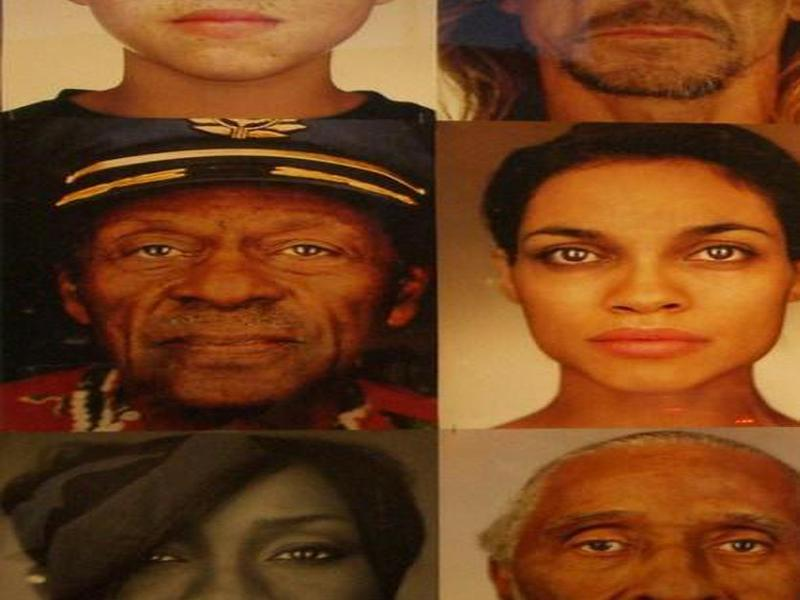person: (14, 145, 435, 428), (473, 124, 800, 428), (8, 433, 424, 600), (11, 4, 434, 142), (480, 431, 798, 600), (441, 4, 800, 121)
